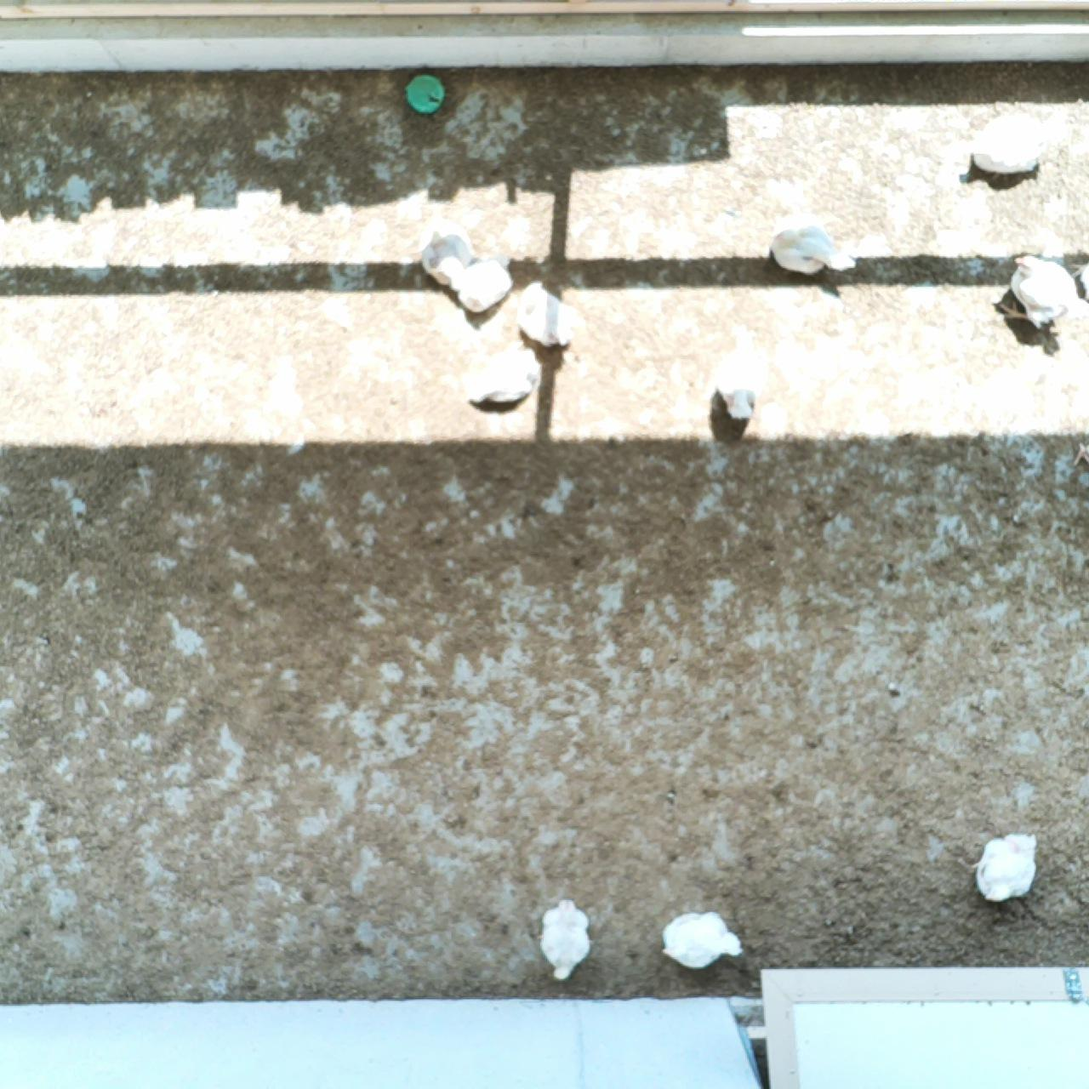chicken: (993, 250, 1080, 344), (962, 101, 1063, 179), (766, 205, 859, 285), (703, 322, 772, 429), (956, 830, 1045, 910), (455, 339, 550, 409), (659, 904, 749, 969), (528, 895, 593, 984), (511, 276, 585, 351), (414, 215, 481, 297), (453, 249, 522, 321)
